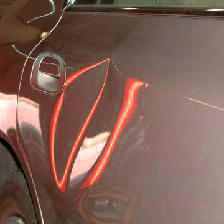door_dent: (54, 57, 131, 199)
